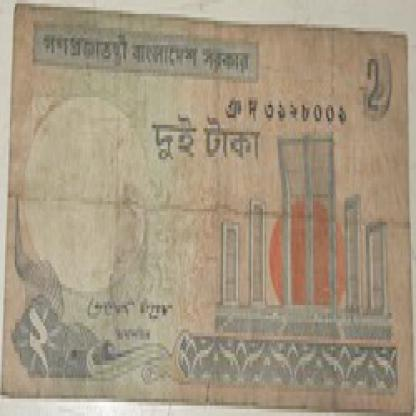two taka: (13, 294, 65, 385), (366, 49, 393, 135)
